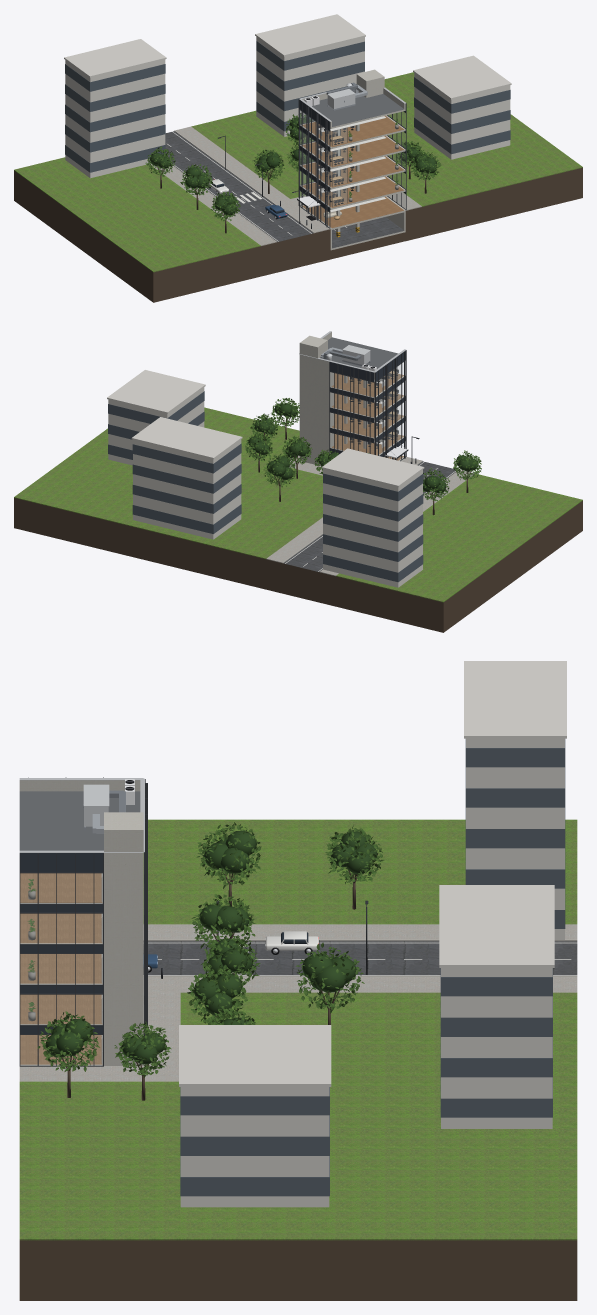
Rendered from building.glb.
The picture shows the model from 3 angles, top to bottom: view 1: azimuth 30°, elevation 25°; view 2: azimuth 150°, elevation 25°; view 3: azimuth 270°, elevation 25°; orthographic projection. The views are drawn at different scales.
Visible parts, largest first — view 1: site, context, finishes, trees, facade, slab, glass, offices, meeting_rooms, street_cars; view 2: site, context, trees, facade, slab, finishes, glass, offices; view 3: site, context, trees, finishes, slab, glass, facade, street_cars.
Part boxes in pixels (bbox=[...]): site: bbox=[14, 72, 582, 302]; context: bbox=[64, 14, 511, 178]; finishes: bbox=[302, 92, 404, 248]; trees: bbox=[145, 113, 441, 233]; facade: bbox=[297, 87, 406, 228]; slab: bbox=[300, 69, 405, 250]; glass: bbox=[300, 110, 405, 226]; offices: bbox=[318, 119, 398, 201]; meeting_rooms: bbox=[329, 127, 347, 206]; street_cars: bbox=[208, 179, 287, 219]; site: bbox=[14, 407, 582, 632]; context: bbox=[107, 370, 424, 587]; trees: bbox=[245, 398, 481, 515]; facade: bbox=[299, 331, 408, 461]; slab: bbox=[299, 332, 403, 465]; finishes: bbox=[328, 337, 403, 460]; glass: bbox=[330, 362, 403, 460]; offices: bbox=[349, 377, 385, 448]; site: bbox=[19, 819, 577, 1300]; context: bbox=[179, 661, 566, 1207]; trees: bbox=[37, 822, 384, 1100]; finishes: bbox=[19, 791, 140, 1064]; slab: bbox=[19, 780, 143, 1065]; glass: bbox=[20, 873, 102, 1065]; facade: bbox=[19, 777, 147, 1066]; street_cars: bbox=[143, 931, 319, 972].
Bounding box in the file's own units: 80 × 26.52 × 45.
Materials: 51 (9 with a texture image).
